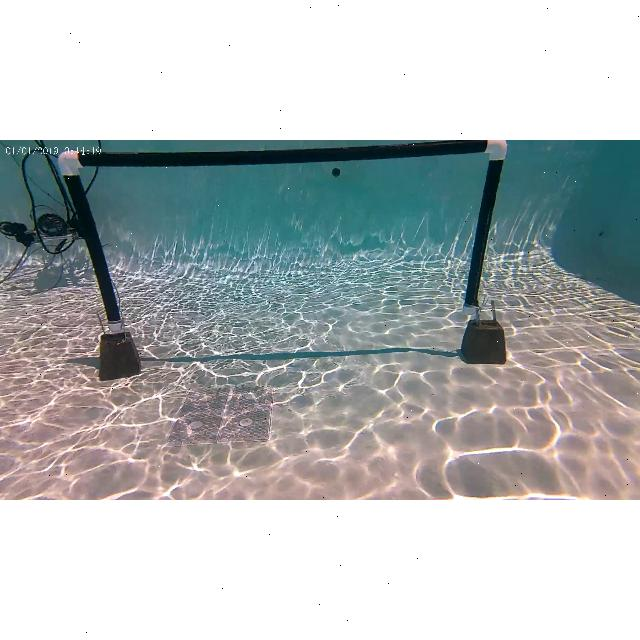prequal gate: (58, 140, 510, 334)
prequal gate leg l: (54, 147, 144, 381)
prequal gate leg r: (466, 140, 506, 364)
